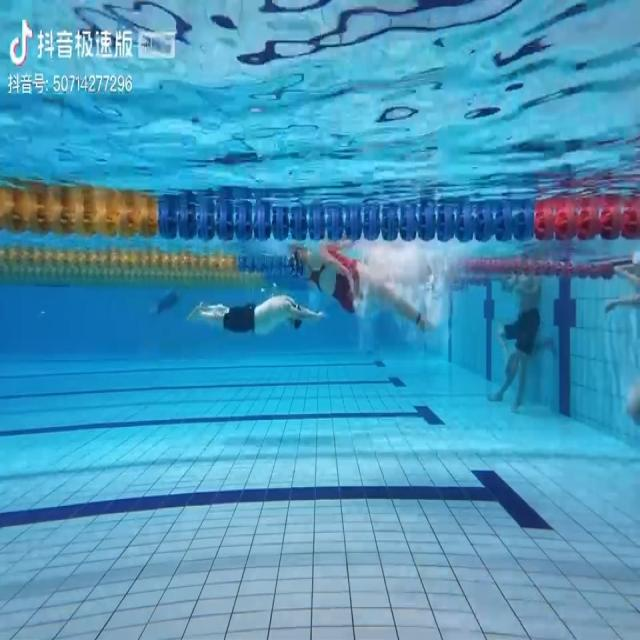Swimming: (286, 243, 438, 332), (188, 295, 328, 333)
